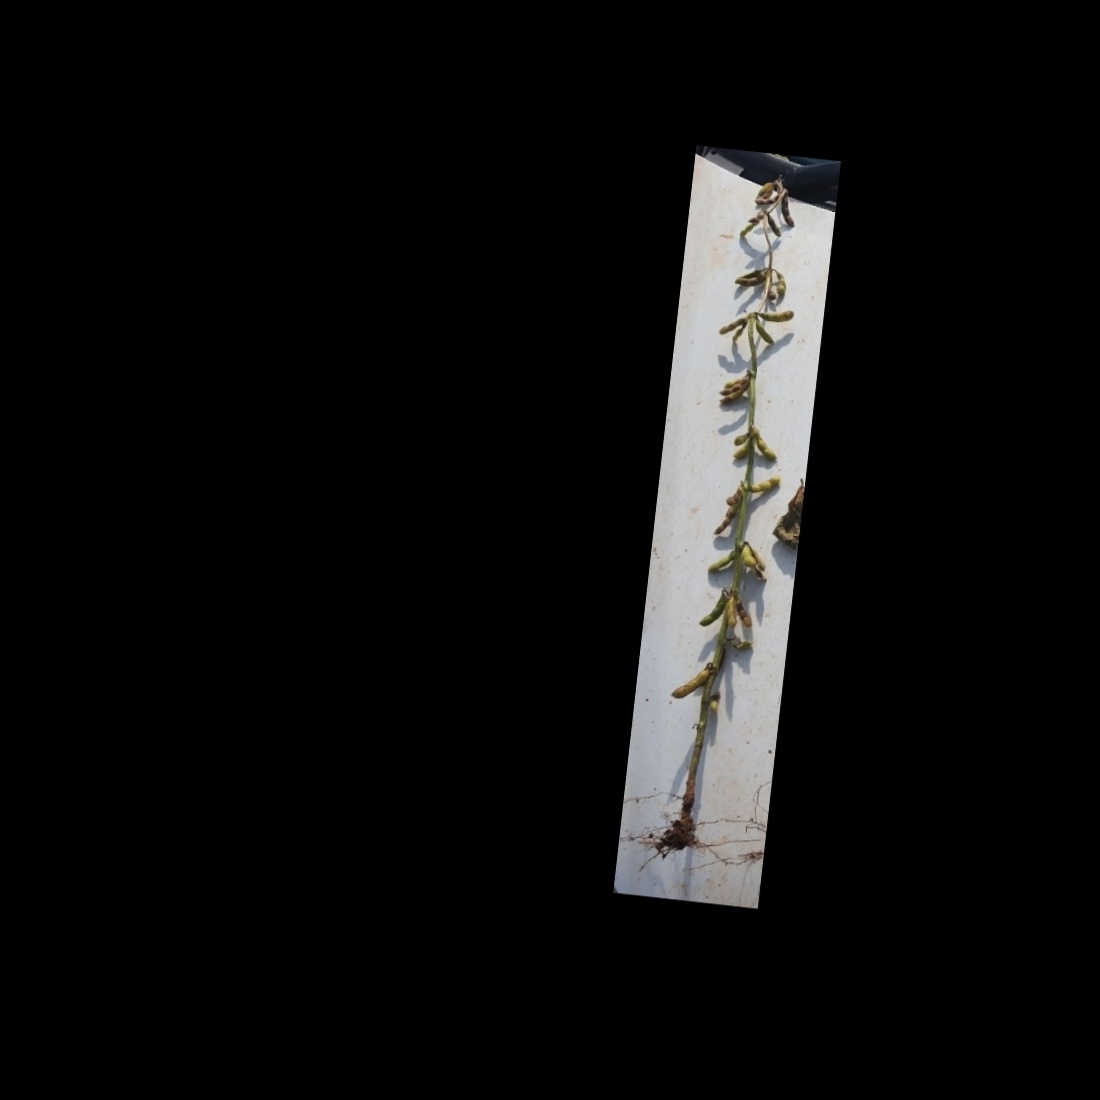pod: (669, 663, 710, 703), (697, 587, 729, 629), (705, 542, 740, 576), (712, 502, 739, 539), (757, 304, 798, 326), (752, 432, 780, 461), (731, 595, 757, 627), (748, 473, 782, 497), (777, 193, 798, 229), (717, 312, 747, 336), (753, 320, 778, 346), (724, 594, 738, 631), (771, 270, 789, 295), (752, 192, 783, 208), (765, 213, 783, 237), (730, 320, 748, 343)
soy: (645, 158, 818, 874)
